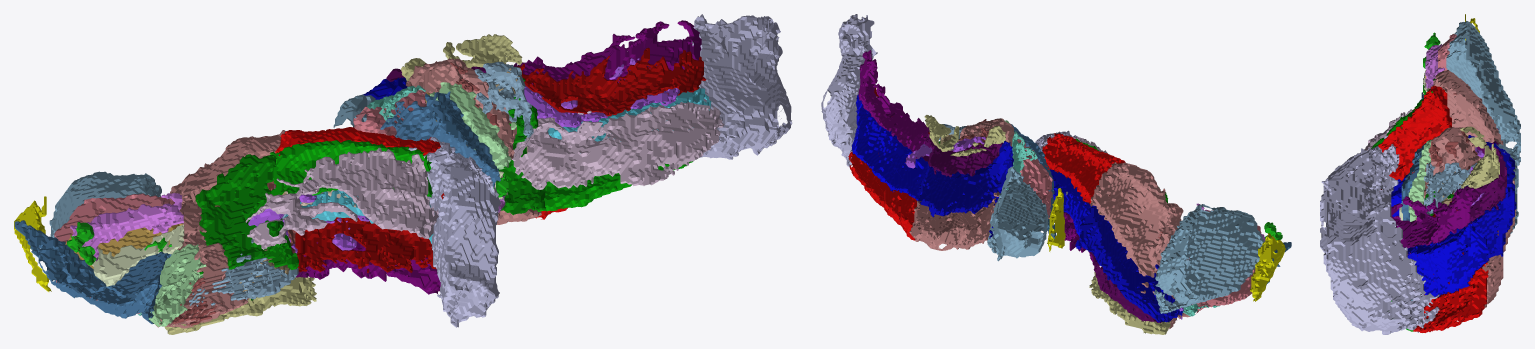
Rendered from hippoAmygLabels.glb.
The picture shows the model from 3 angles, left to right: view 1: azimuth 30°, elevation 25°; view 2: azimuth 150°, elevation 25°; view 3: azimuth 270°, elevation 25°; orthographic projection. The views are drawn at different scales.
Parts seen in each view (by area): view 1: rh - fimbria, rh - HP_tail, lh - HP_tail, lh - fimbria, lh - CA3-head, rh - molecular_layer_HP-body, lh - Corticoamygdaloid-transitio, lh - CA1-head, lh - molecular_layer_HP-body, rh - presubiculum-body, rh - Corticoamygdaloid-transitio, lh - CA3-body (+26 smaller); view 2: lh - Lateral-nucleus, lh - CA1-head, rh - HP_tail, rh - Lateral-nucleus, lh - subiculum-head, rh - subiculum-head, rh - CA1-head, rh - subiculum-body, lh - CA1-body, rh - presubiculum-body, rh - CA1-body, rh - presubiculum-head (+12 smaller); view 3: rh - HP_tail, lh - HP_tail, lh - Lateral-nucleus, rh - subiculum-body, lh - CA1-body, rh - presubiculum-body, rh - CA1-body, lh - CA1-head, rh - CA1-head, rh - subiculum-head, rh - GC-ML-DG-head, rh - presubiculum-head (+11 smaller).
Boxes of the visible parts, left/top/right/bottom form: rh - fimbria: left=512, top=102, right=726, bottom=189; rh - HP_tail: left=691, top=14, right=792, bottom=159; lh - HP_tail: left=408, top=137, right=500, bottom=327; lh - fimbria: left=245, top=147, right=438, bottom=249; lh - CA3-head: left=195, top=152, right=298, bottom=300; rh - molecular_layer_HP-body: left=517, top=47, right=706, bottom=116; lh - Corticoamygdaloid-transitio: left=14, top=220, right=171, bottom=324; lh - CA1-head: left=156, top=130, right=286, bottom=328; lh - molecular_layer_HP-body: left=275, top=154, right=444, bottom=272; rh - presubiculum-body: left=517, top=20, right=701, bottom=89; rh - Corticoamygdaloid-transitio: left=380, top=91, right=500, bottom=187; lh - CA3-body: left=234, top=140, right=432, bottom=197; lh - Lateral-nucleus: left=1154, top=204, right=1265, bottom=313; lh - CA1-head: left=1090, top=162, right=1190, bottom=328; rh - HP_tail: left=821, top=14, right=877, bottom=167; rh - Lateral-nucleus: left=987, top=166, right=1048, bottom=261; lh - subiculum-head: left=1079, top=205, right=1183, bottom=322; rh - subiculum-head: left=917, top=140, right=1013, bottom=237; rh - CA1-head: left=909, top=118, right=1014, bottom=250; rh - subiculum-body: left=852, top=94, right=927, bottom=200; lh - CA1-body: left=1042, top=133, right=1125, bottom=204; rh - presubiculum-body: left=858, top=50, right=929, bottom=158; rh - CA1-body: left=848, top=151, right=916, bottom=240; rh - presubiculum-head: left=921, top=127, right=1002, bottom=177; rh - HP_tail: left=1327, top=201, right=1439, bottom=334; lh - HP_tail: left=1320, top=135, right=1399, bottom=272; lh - Lateral-nucleus: left=1446, top=21, right=1520, bottom=165; rh - subiculum-body: left=1404, top=221, right=1488, bottom=296; lh - CA1-body: left=1378, top=85, right=1451, bottom=180; rh - presubiculum-body: left=1391, top=187, right=1473, bottom=254; rh - CA1-body: left=1413, top=261, right=1488, bottom=332; lh - CA1-head: left=1431, top=70, right=1503, bottom=145; rh - CA1-head: left=1415, top=127, right=1516, bottom=307; rh - subiculum-head: left=1468, top=135, right=1516, bottom=260; rh - GC-ML-DG-head: left=1424, top=162, right=1477, bottom=214; rh - presubiculum-head: left=1463, top=140, right=1506, bottom=223.
Bounding box in the file's own units: 94.67 × 33 × 28.67.
